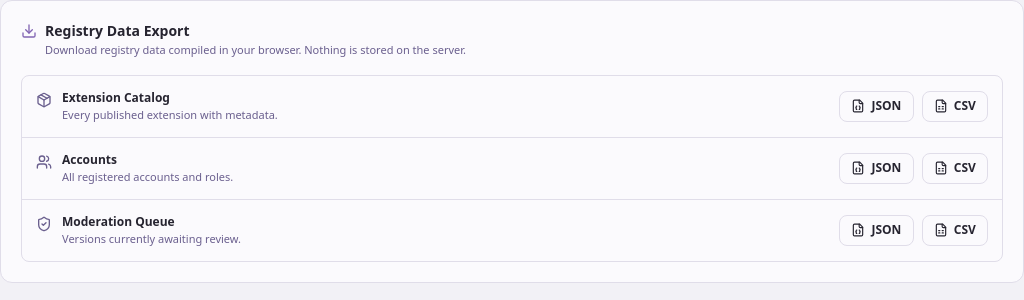
Test: ExportPanel › downloads the accounts as CSV
Click the button "CSV" in the row of "All registered accounts and roles.".
click(955, 168)  # box [922, 153, 988, 184]
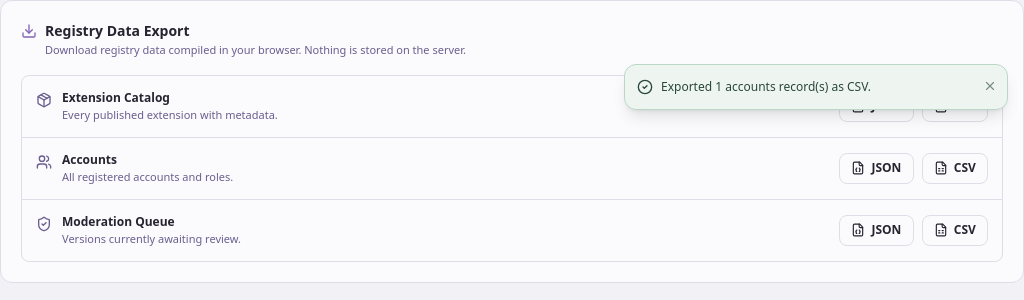
Result: the text "Exported 1 accounts record(s) as CSV." is shown at [661, 78, 871, 95]
